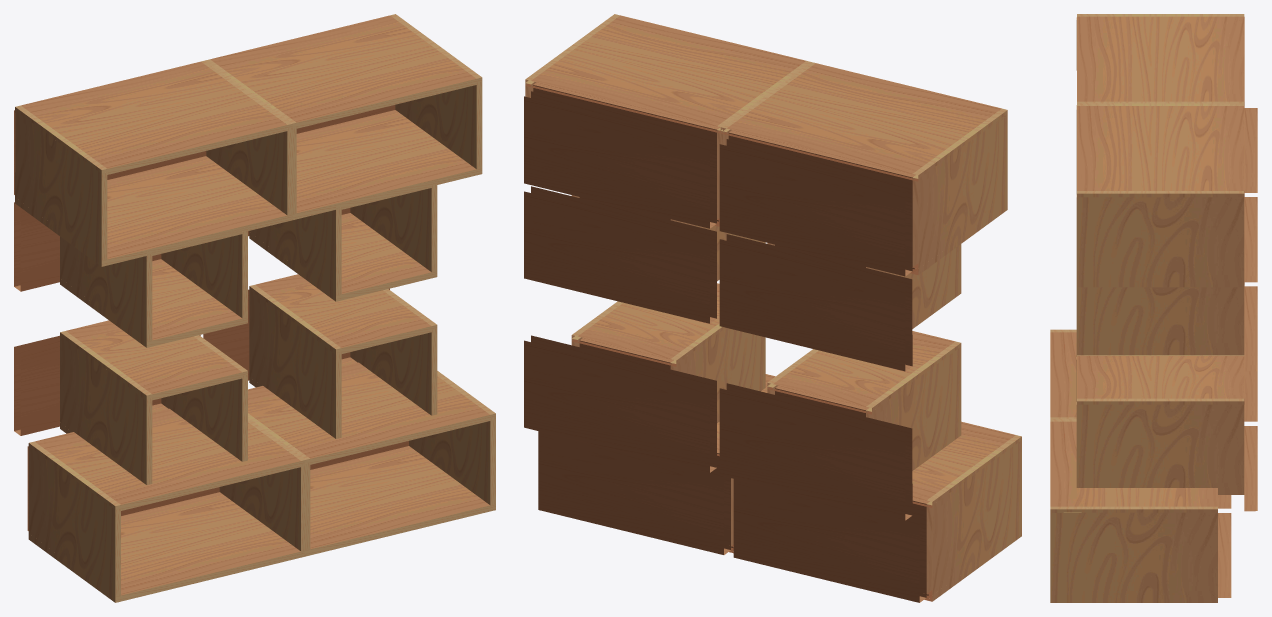
Rendered from layout_0_shape_12c.fbx.
The picture shows the model from 3 angles, left to right: view 1: azimuth 30°, elevation 25°; view 2: azimuth 150°, elevation 25°; view 3: azimuth 270°, elevation 25°; orthographic projection. The views are drawn at different scales.
Visible parts, largest first — view 1: Shelf_TM_00_3, Shelf_TM_00_7, Shelf_BM_00, Shelf_BM_00_4, Shelf_BM_00_7, Shelf_BM_00_3, Shelf_TM_00_4, Shelf_TM_00, Shelf_CL_01_4, Shelf_CL_01_7, Shelf_CL_01_1, Shelf_CL_01_5 (+25 smaller); view 2: Shelf_Back_00__1__5, Shelf_Back_00__1__7, Shelf_Back_00__1__6, Shelf_Back_00__1__3, Shelf_Back_00__1__1, Shelf_Back_00__1__2, Shelf_TM_00_3, Shelf_TM_00_7, Shelf_Back_00__1__4, Shelf_Back_00__1_, Shelf_CL_01_4, Shelf_CL_01_7 (+14 smaller); view 3: Shelf_TM_00_7, Shelf_CR_01_3, Shelf_TM_00_3, Shelf_CR_01, Shelf_CR_01_1, Shelf_CR_01_2, Shelf_TM_00_1, Shelf_TM_00, Shelf_TM_00_4, Shelf_Back_00__1__2, Shelf_Back_00__1__3, Shelf_Back_00__1__1 (+12 smaller).
Part boxes in pixels (x1=…): Shelf_TM_00_3: x1=210, y1=15, x2=476, y2=128; Shelf_TM_00_7: x1=21, y1=61, x2=287, y2=174; Shelf_BM_00: x1=310, y1=446, x2=490, y2=555; Shelf_BM_00_4: x1=121, y1=492, x2=300, y2=601; Shelf_BM_00_7: x1=107, y1=156, x2=287, y2=265; Shelf_BM_00_3: x1=296, y1=110, x2=476, y2=218; Shelf_TM_00_4: x1=35, y1=408, x2=300, y2=510; Shelf_TM_00: x1=248, y1=362, x2=490, y2=464; Shelf_CL_01_4: x1=28, y1=446, x2=120, y2=596; Shelf_CL_01_7: x1=15, y1=111, x2=107, y2=260; Shelf_CL_01_1: x1=249, y1=290, x2=341, y2=438; Shelf_CL_01_5: x1=60, y1=336, x2=152, y2=484; Shelf_Back_00__1__5: x1=719, y1=383, x2=912, y2=520; Shelf_Back_00__1__7: x1=719, y1=139, x2=912, y2=276; Shelf_Back_00__1__6: x1=719, y1=234, x2=912, y2=371; Shelf_Back_00__1__3: x1=524, y1=91, x2=716, y2=228; Shelf_Back_00__1__1: x1=524, y1=335, x2=716, y2=472; Shelf_Back_00__1__2: x1=524, y1=186, x2=716, y2=323; Shelf_TM_00_3: x1=531, y1=15, x2=805, y2=132; Shelf_TM_00_7: x1=727, y1=63, x2=1001, y2=180; Shelf_Back_00__1__4: x1=733, y1=479, x2=926, y2=602; Shelf_Back_00__1_: x1=538, y1=431, x2=730, y2=554; Shelf_CL_01_4: x1=926, y1=440, x2=1021, y2=595; Shelf_CL_01_7: x1=912, y1=114, x2=1007, y2=268; Shelf_TM_00_7: x1=1077, y1=16, x2=1244, y2=105; Shelf_CR_01_3: x1=1076, y1=195, x2=1244, y2=281; Shelf_TM_00_3: x1=1077, y1=106, x2=1244, y2=196; Shelf_CR_01: x1=1050, y1=512, x2=1217, y2=596; Shelf_CR_01_1: x1=1076, y1=402, x2=1244, y2=488; Shelf_CR_01_2: x1=1076, y1=281, x2=1244, y2=349; Shelf_TM_00_1: x1=1077, y1=356, x2=1244, y2=404; Shelf_TM_00: x1=1050, y1=421, x2=1217, y2=506; Shelf_TM_00_4: x1=1050, y1=332, x2=1076, y2=417; Shelf_Back_00__1__2: x1=1244, y1=286, x2=1257, y2=371; Shelf_Back_00__1__3: x1=1244, y1=197, x2=1257, y2=282; Shelf_Back_00__1__1: x1=1244, y1=426, x2=1257, y2=511.
Bounding box in the file's own units: 203 × 215 × 98.92.
